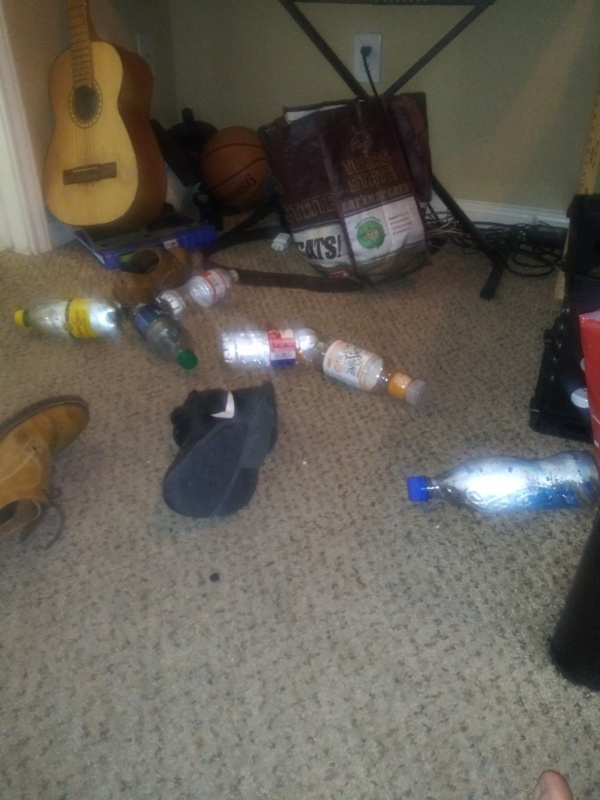bottle: (400, 445, 600, 516), (321, 335, 432, 412), (125, 290, 206, 378), (8, 290, 121, 348), (218, 325, 339, 366), (158, 264, 246, 320)
